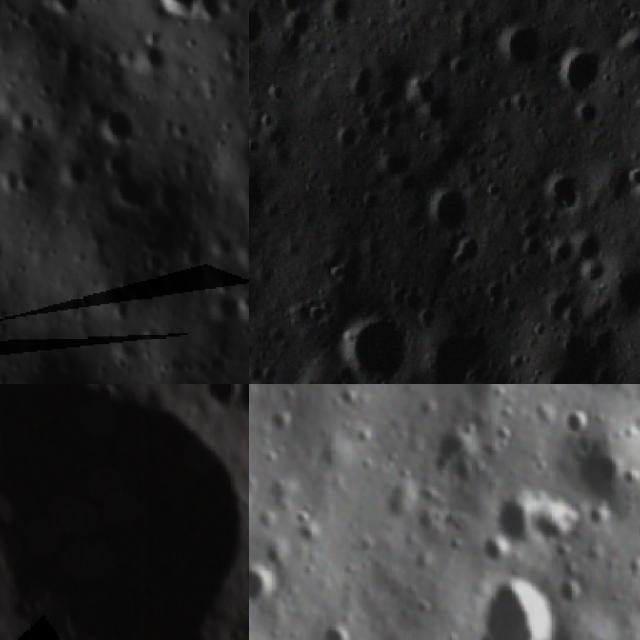crater: (0, 384, 249, 640), (470, 569, 564, 640), (333, 306, 415, 384), (418, 319, 496, 384), (526, 333, 615, 384), (577, 435, 634, 501), (418, 182, 480, 238), (538, 162, 588, 222), (435, 423, 491, 475), (493, 17, 546, 70), (525, 494, 578, 546), (552, 46, 604, 98), (600, 257, 640, 322), (249, 156, 276, 236), (91, 108, 142, 145), (276, 0, 321, 40), (249, 561, 281, 607), (574, 96, 610, 134), (558, 405, 594, 441), (203, 384, 246, 414), (446, 455, 485, 488), (615, 19, 640, 70), (294, 512, 329, 548), (324, 0, 364, 30), (330, 121, 360, 157), (264, 540, 296, 573), (268, 403, 298, 437), (145, 0, 199, 18), (320, 614, 357, 640), (249, 0, 269, 48), (414, 392, 443, 423), (302, 302, 334, 328), (494, 424, 520, 446), (68, 289, 95, 310), (337, 384, 359, 409), (49, 0, 73, 17)
